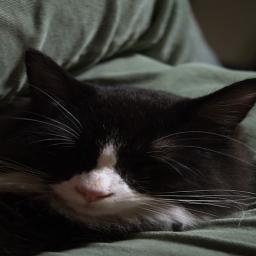catnose: (73, 184, 113, 203)
